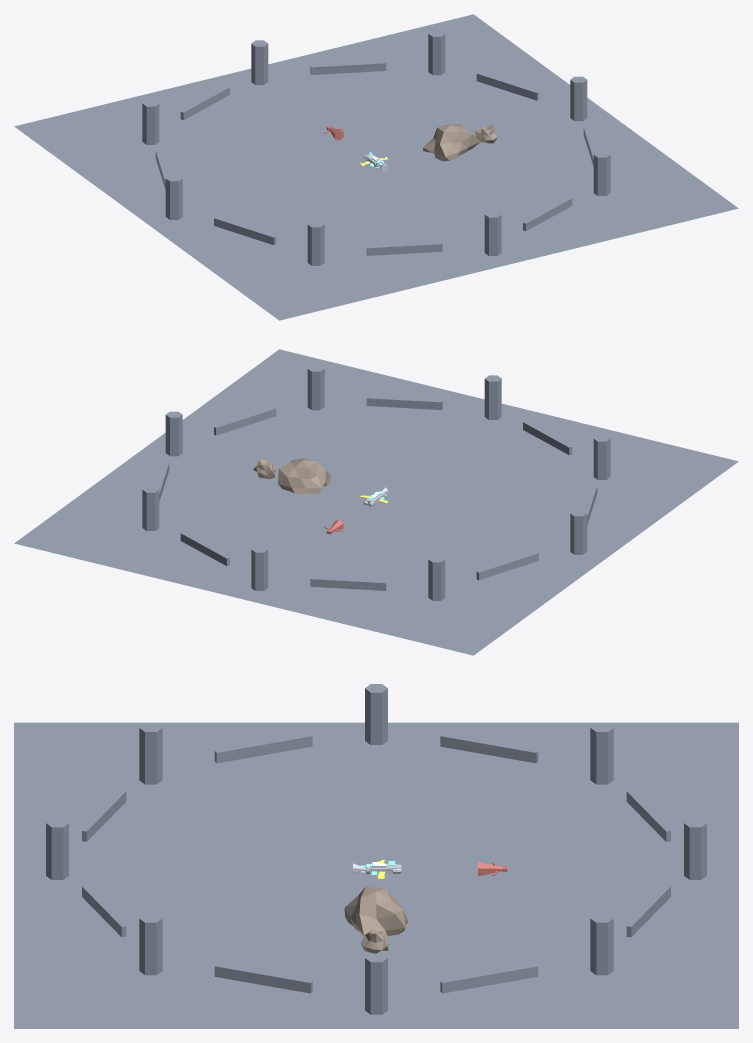
The model's file is AsteroidsGoneRogue_Week1_All.fbx.
3 renders of one model, top to bottom at view 1: azimuth 30°, elevation 25°; view 2: azimuth 150°, elevation 25°; view 3: azimuth 270°, elevation 25°, orthographic. The views are drawn at different scales.
Parts seen in each view (by area): view 1: Arena_Blockout, Asteroid_Large; view 2: Arena_Blockout, Asteroid_Large; view 3: Arena_Blockout, Asteroid_Large.
Part boxes in pixels (x1=…): Arena_Blockout: x1=14, y1=14, x2=738, y2=320; Asteroid_Large: x1=423, y1=123, x2=480, y2=161; Arena_Blockout: x1=14, y1=349, x2=738, y2=655; Asteroid_Large: x1=277, y1=458, x2=330, y2=493; Arena_Blockout: x1=14, y1=684, x2=738, y2=1028; Asteroid_Large: x1=344, y1=886, x2=407, y2=936.
Bounding box in the file's own units: 50 × 5.79 × 50.
